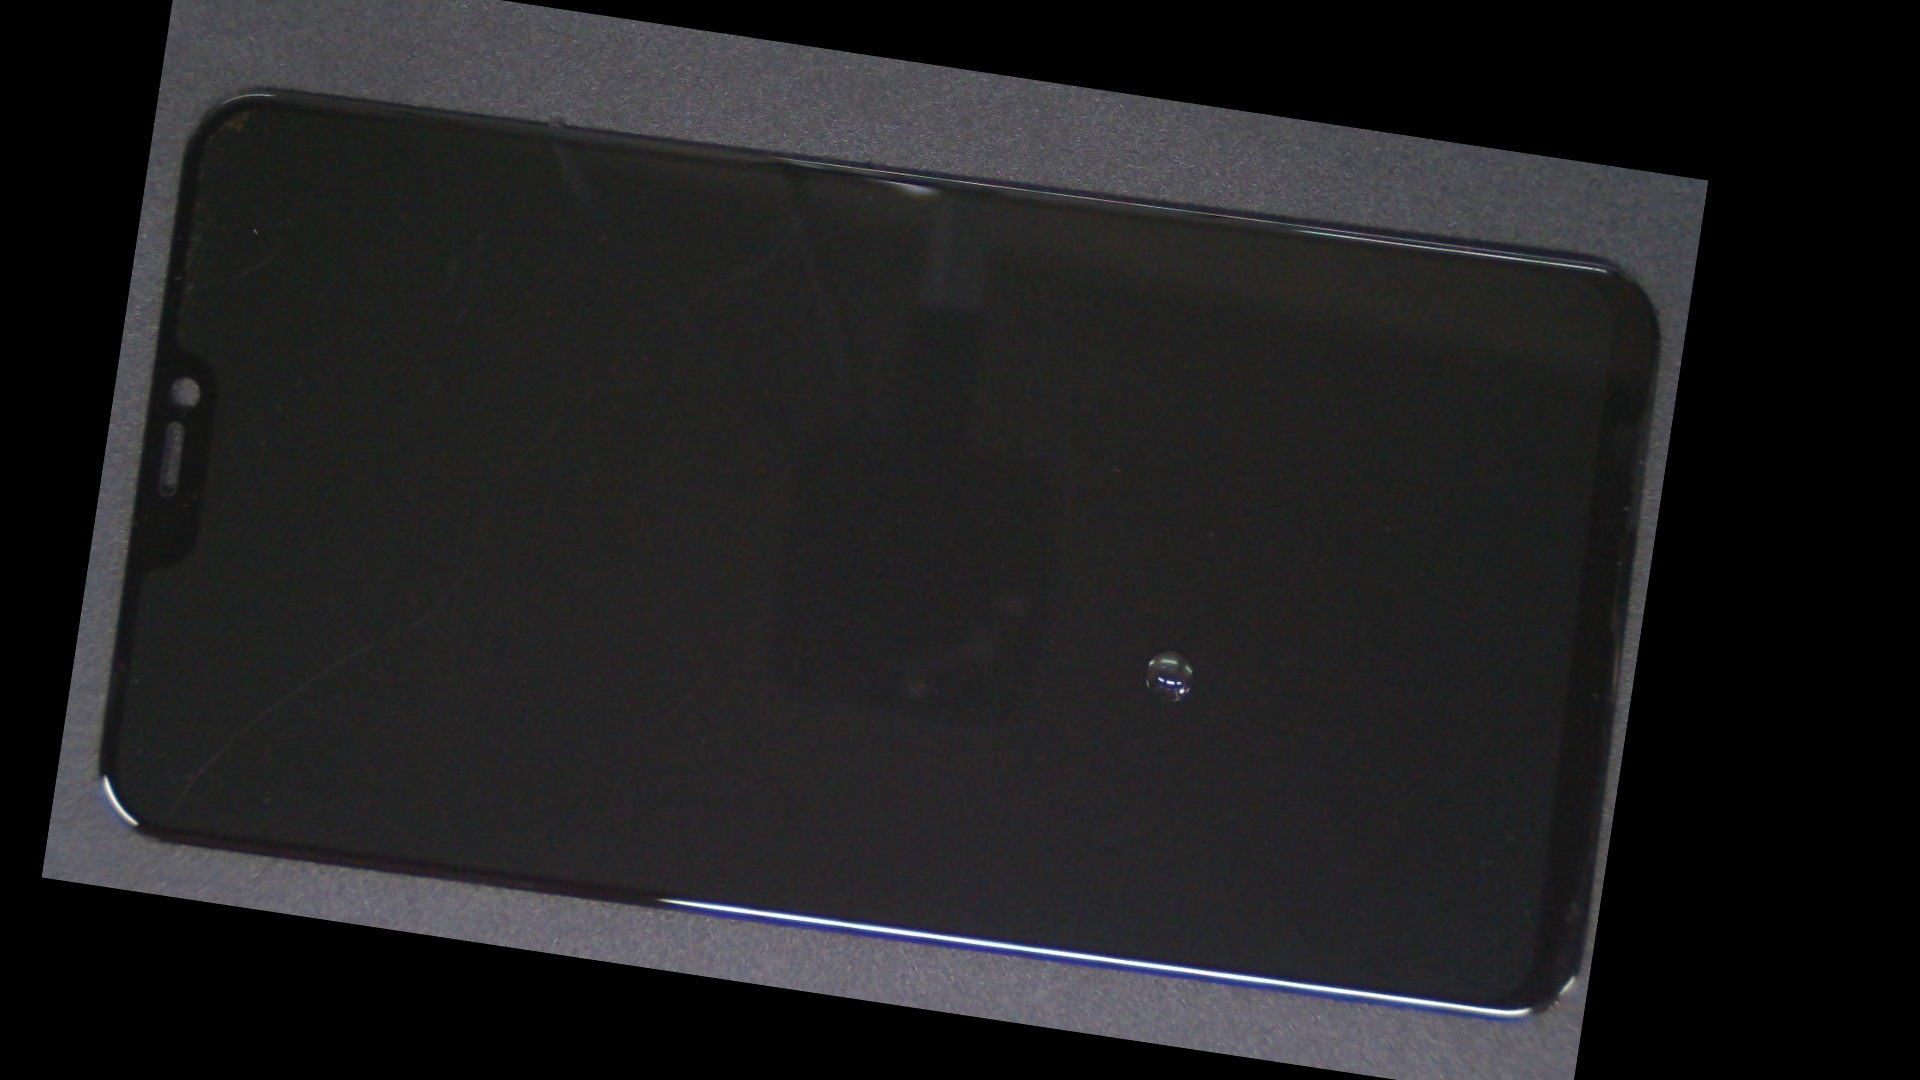oil: (593, 301, 1668, 988)
